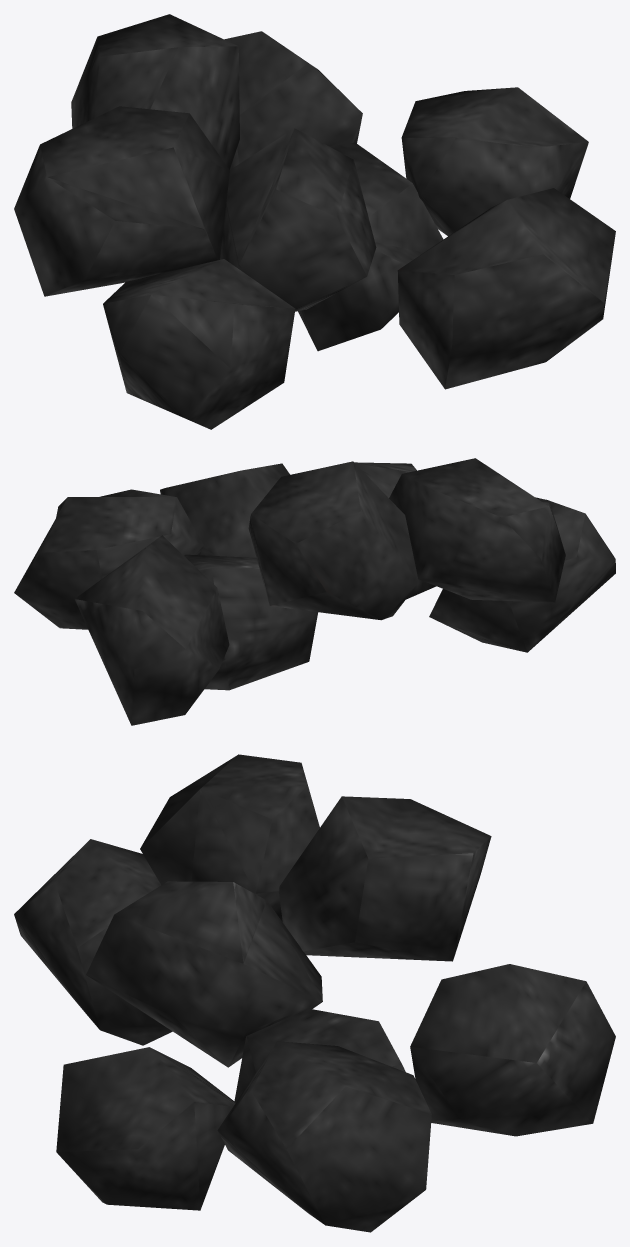
File: coal.fbx
3 views of the same model, one above another, from view 1: azimuth 30°, elevation 25°; view 2: azimuth 150°, elevation 25°; view 3: azimuth 270°, elevation 25° (orthographic). The views are drawn at different scales.
Visible parts, largest first — view 1: polySurface441; view 2: polySurface441; view 3: polySurface441.
Part boxes in pixels (bbox=[...]): polySurface441: bbox=[14, 14, 615, 429]; polySurface441: bbox=[14, 458, 615, 725]; polySurface441: bbox=[14, 754, 615, 1232].
Bounding box in the file's own units: 22.89 × 11.71 × 20.75.
